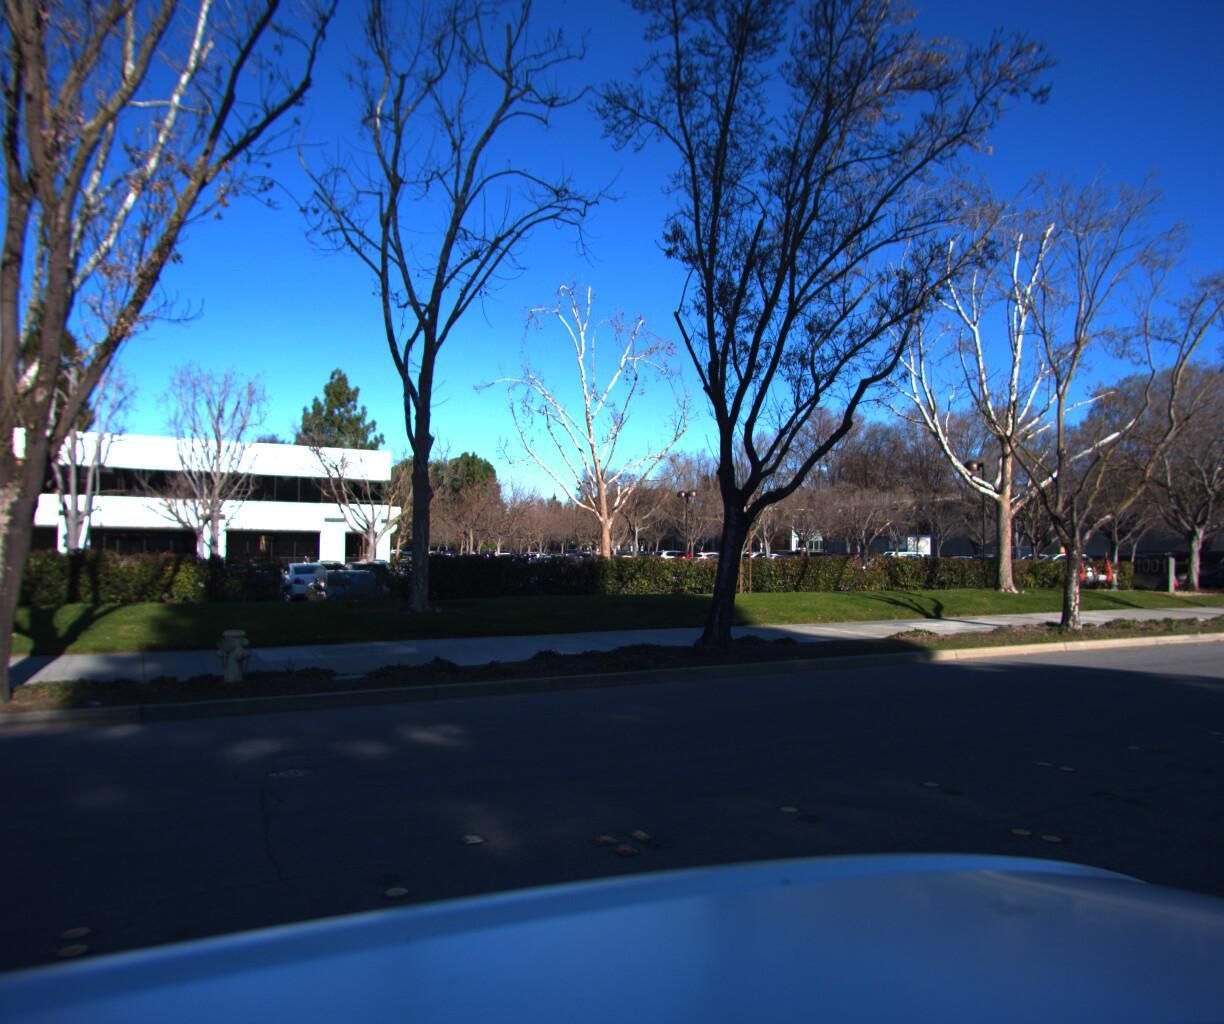car: (297, 562, 401, 635), (1186, 555, 1224, 598)
